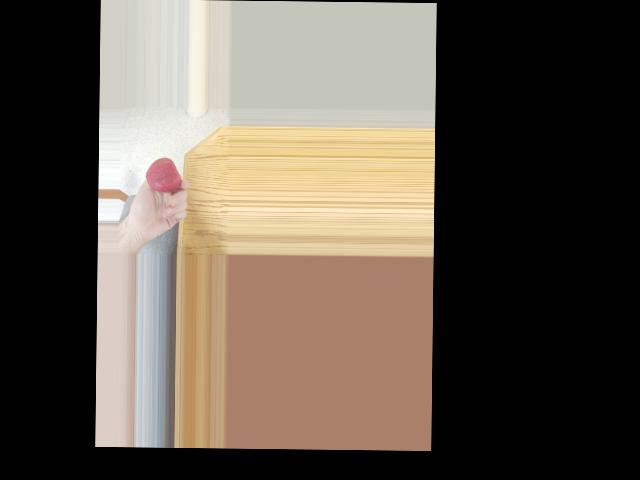apple: (144, 155, 182, 193)
